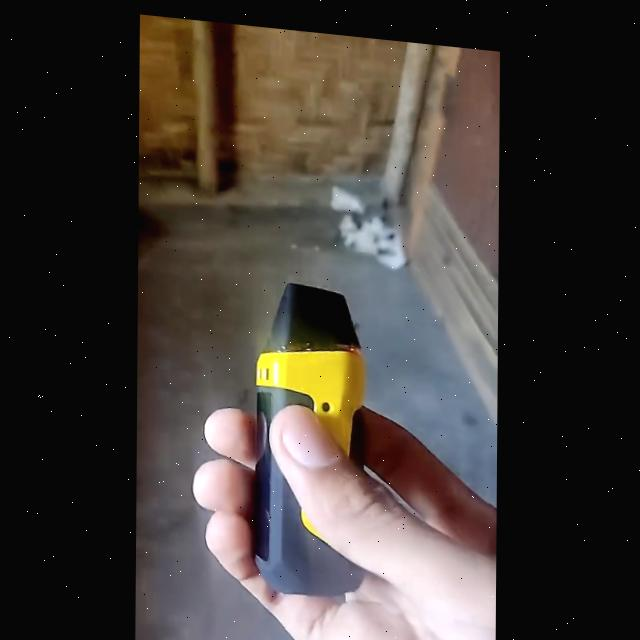vape: (255, 273, 367, 592)
